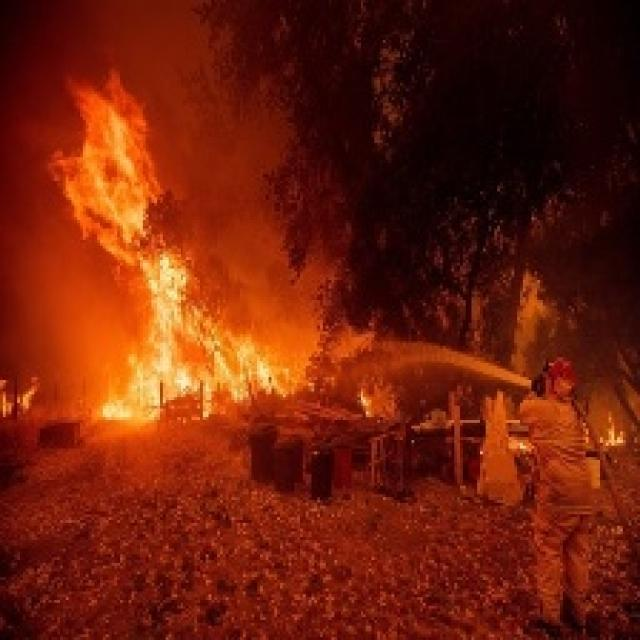Fire: (50, 74, 259, 413)
